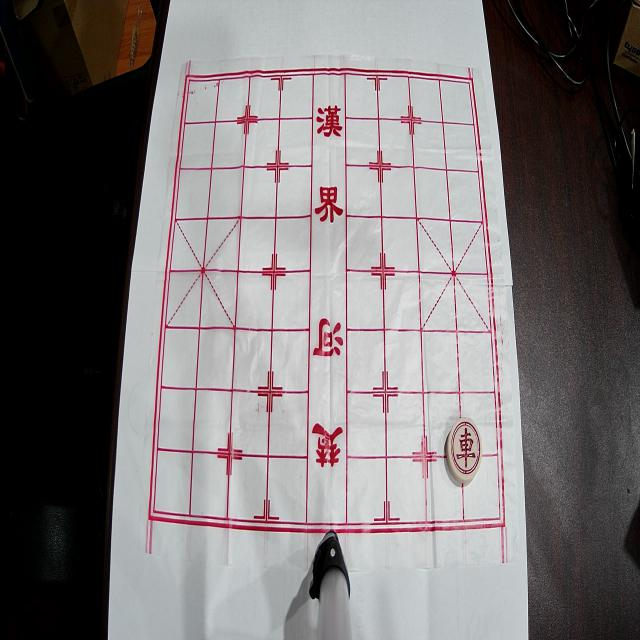red-chariot: (447, 417, 482, 484)
